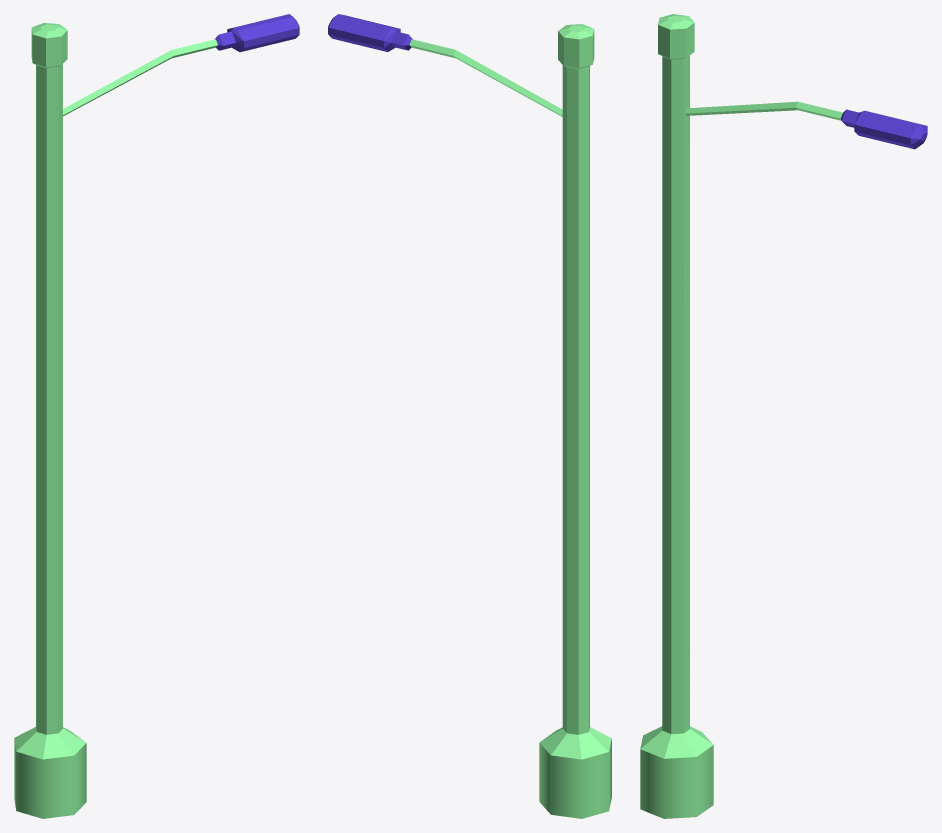
File: Lamp.FBX
3 views of the same model, side by side, from view 1: azimuth 30°, elevation 25°; view 2: azimuth 150°, elevation 25°; view 3: azimuth 330°, elevation 25° (orthographic).
Visible parts, largest first — view 1: Cylinder001; view 2: Cylinder001; view 3: Cylinder001.
Part boxes in pixels (box(x1,y1,x2,y2)): Cylinder001: box(14, 14, 299, 818); Cylinder001: box(328, 14, 611, 818); Cylinder001: box(640, 14, 927, 818).
Size of the model in its own units: 8.7 by 23.12 by 1.98.
